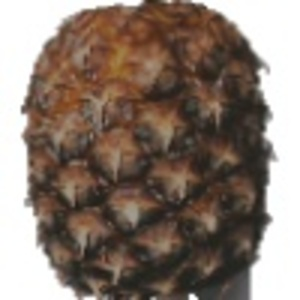abacaxi: (19, 2, 275, 297)
